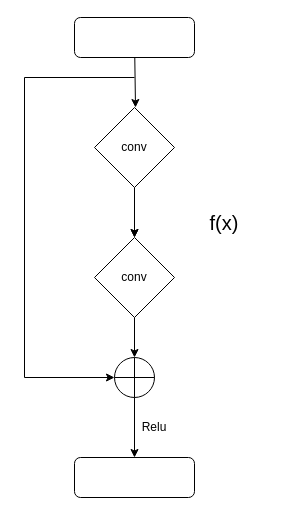
The diagram is 292 pixels wide and 515 high, and some of its shapes have lost their labels. The box of each missing label's shape, as (x1, y1, x2, y2) in pixels:
input x: (74, 16, 194, 58)
output y: (74, 456, 194, 498)
